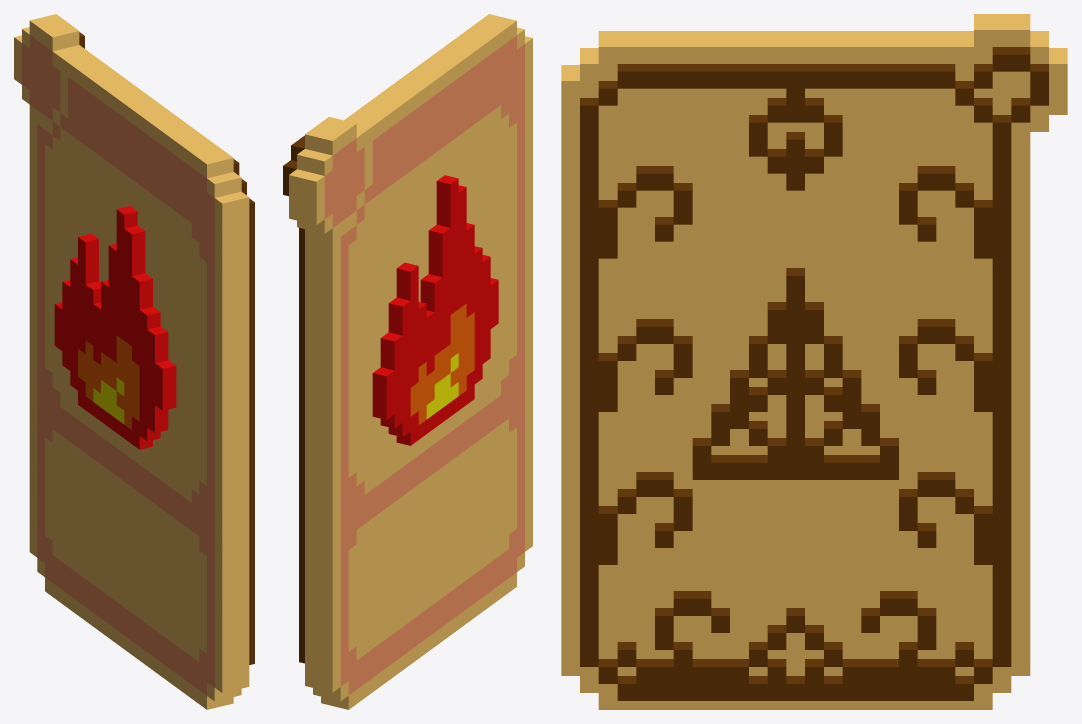
The model's file is Incendio2.obj.
3 views of the same model, side by side, from view 1: azimuth 30°, elevation 25°; view 2: azimuth 150°, elevation 25°; view 3: azimuth 270°, elevation 25° (orthographic). The views are drawn at different scales.
Bounding box in the file's own units: 0.4 × 4 × 2.7.
1 material, 1 textured.
